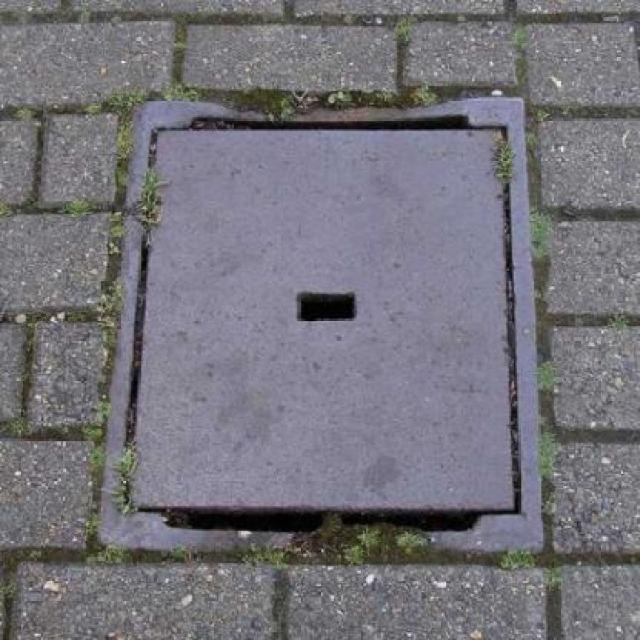Manhole: (93, 93, 552, 550)
